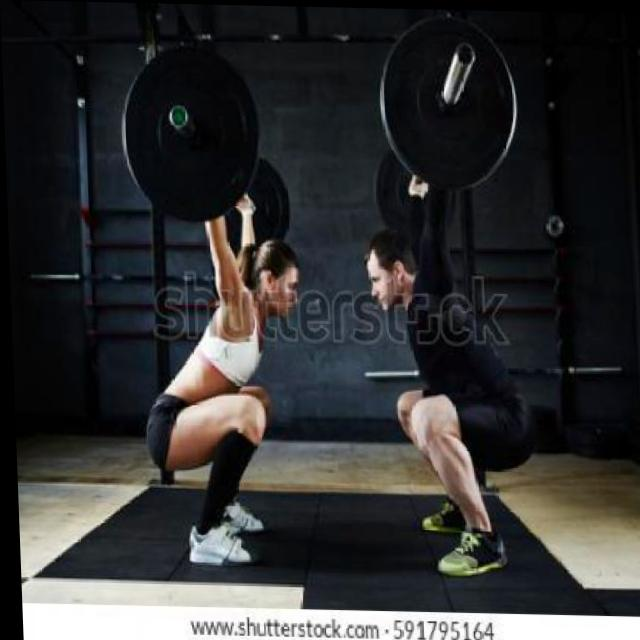barbell: (112, 32, 272, 231), (371, 7, 531, 194)
